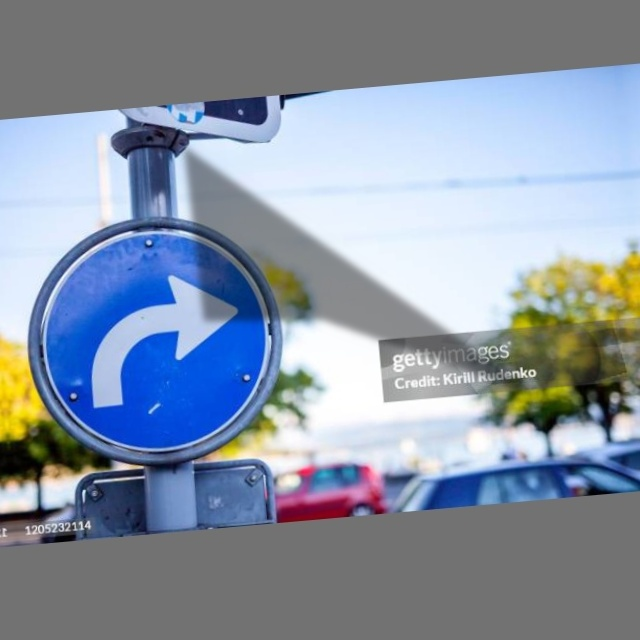Compulsory_Turn_Right_Ahead: (28, 211, 283, 467)
